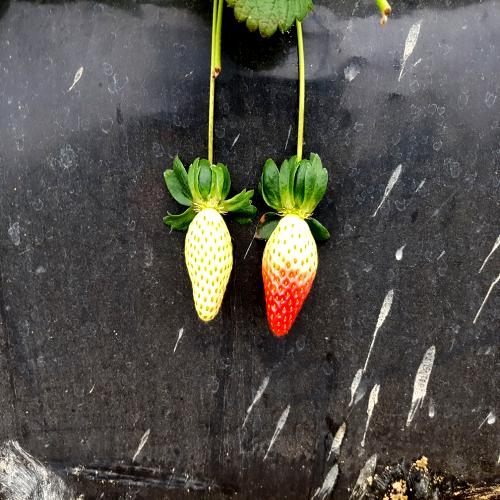partially-ripe: (256, 203, 322, 349)
unripe: (180, 192, 238, 329)
